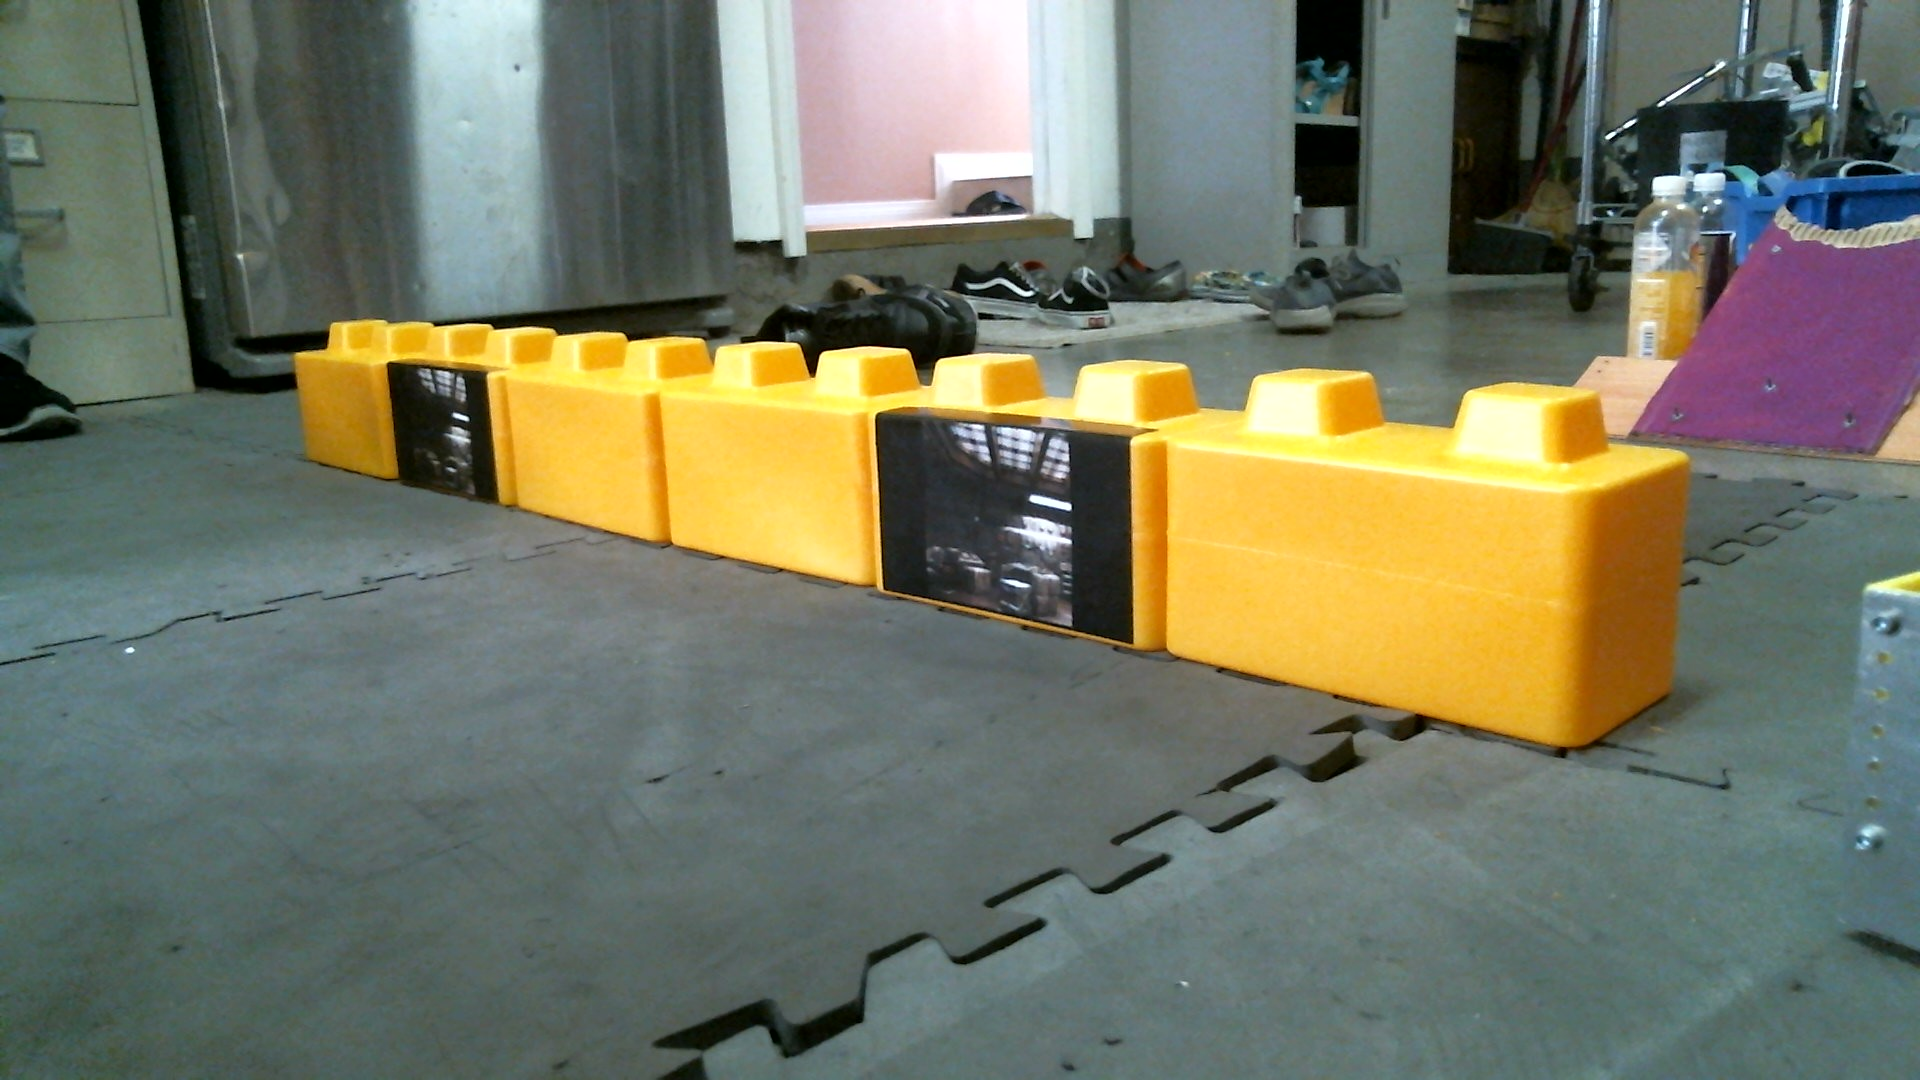skystone: (873, 349, 1193, 655), (382, 319, 549, 502)
stone: (1156, 364, 1687, 758), (655, 338, 905, 583), (506, 332, 702, 545), (293, 319, 419, 477)
